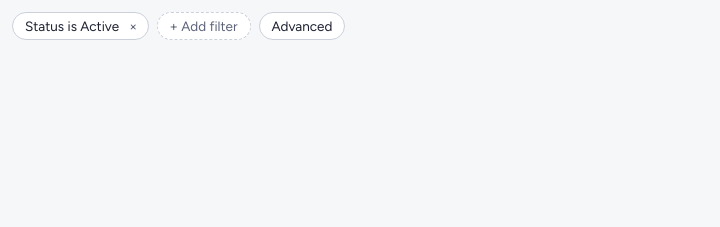
Test: FilterChipRow: the grammar stays reachable behind Advanced › keeps an `Advanced` chip beside the sentence chips when the filter IS a flat AND
This screenshot has width=720, height=227.
Expected: the element with test id "filter-chip-0" shows "Status is Active", [13, 13, 125, 39]
What coordinates should you click on to do the following:
click the button "Advanced"
I would click on:
 (302, 26)
Its box is [260, 13, 344, 39].
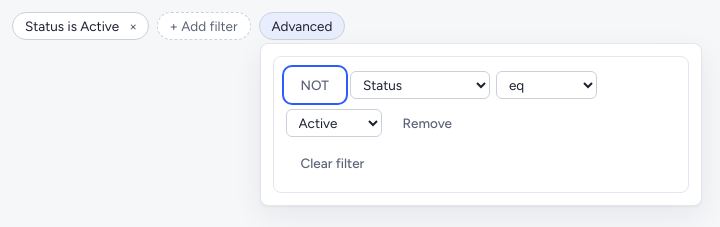
Expected: the element with test id "filter-builder" is shown, [272, 56, 688, 193]
